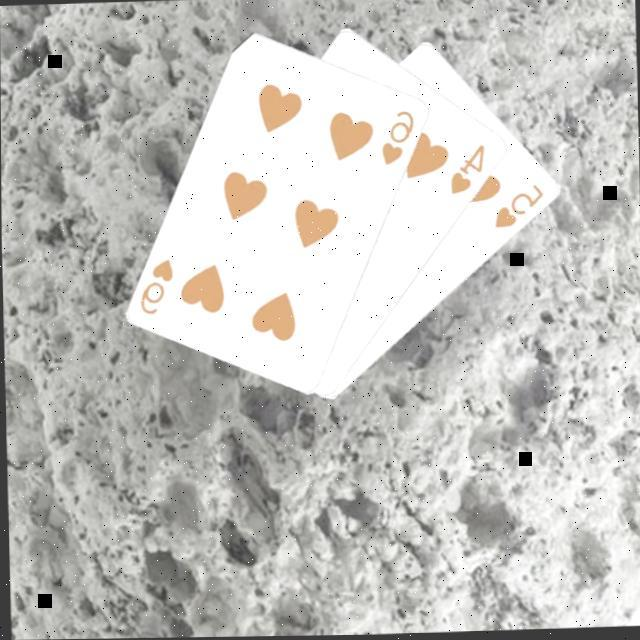4H: (446, 142, 489, 200)
5H: (490, 182, 548, 234)
6H: (136, 257, 178, 320), (378, 109, 420, 171)
